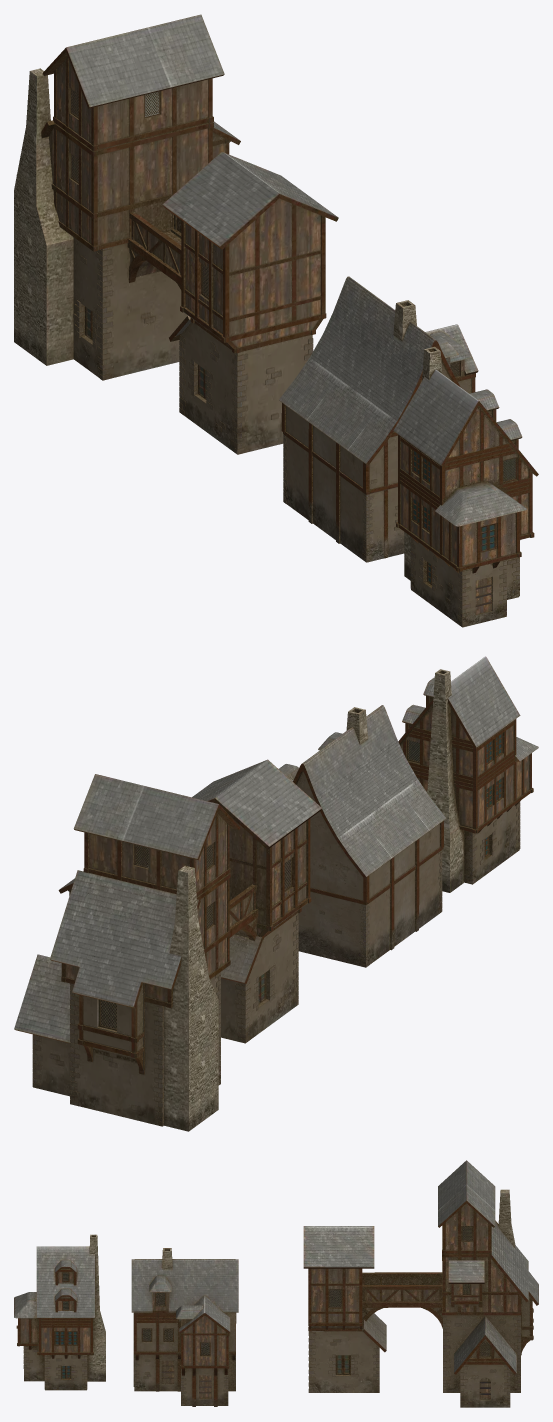
The model's file is medieval_houses_3_pack.glb.
3 renders of one model, top to bottom at view 1: azimuth 30°, elevation 25°; view 2: azimuth 150°, elevation 25°; view 3: azimuth 270°, elevation 25°, orthographic. The views are drawn at different scales.
Visible parts, largest first — view 1: Object_4, Object_3, Object_2; view 2: Object_4, Object_3, Object_2; view 3: Object_4, Object_3, Object_2.
Boxes of the visible parts, x1,y1,x2,y2 form: Object_4: (14,14,338,454); Object_3: (279,276,478,562); Object_2: (393,346,538,627); Object_4: (14,759,322,1131); Object_3: (279,705,446,967); Object_2: (398,656,538,892); Object_4: (303,1160,538,1407); Object_3: (131,1248,238,1406); Object_2: (14,1234,105,1390).
Size of the model in its own units: 6.45 by 10.38 by 24.98.
3 materials, 3 textured.
